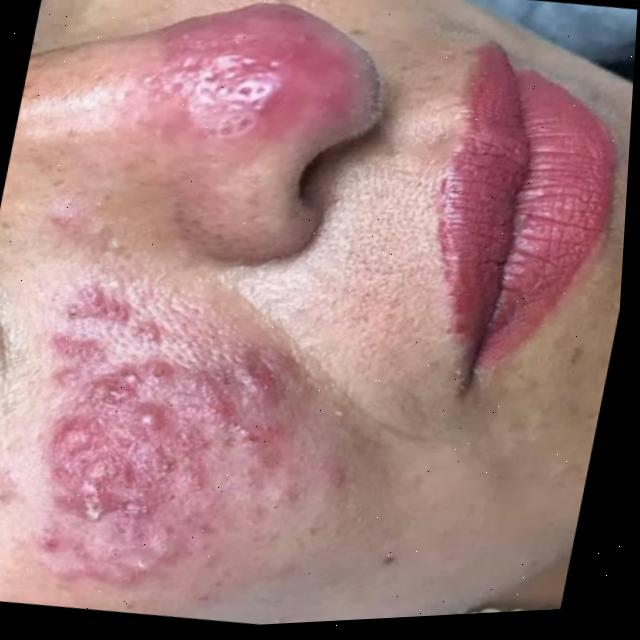Rosacea: (0, 268, 346, 639), (114, 0, 368, 212)
